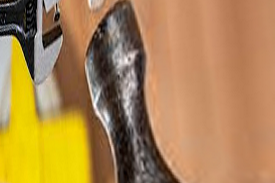Wrench: (1, 1, 76, 71)
